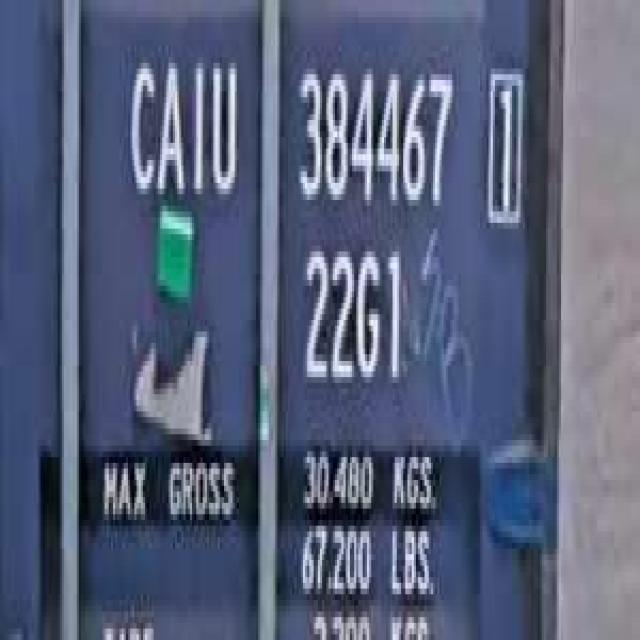dv: (480, 51, 525, 240)
owner: (122, 40, 241, 211)
serial: (290, 52, 457, 217)
size: (294, 228, 406, 406)
